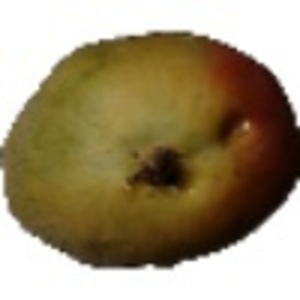mamão: (2, 26, 297, 275)
